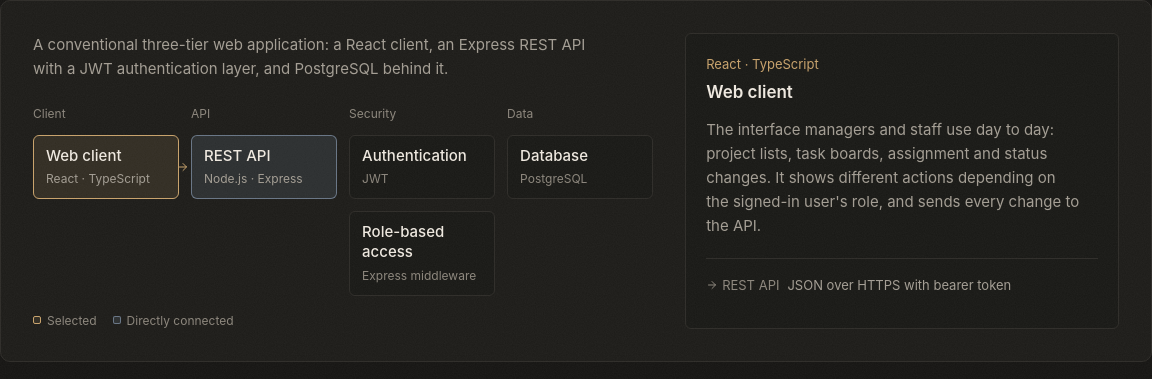
Test case: Architecture explorer › explains what a component does in this specific project
Click the button with aria-label "Database, PostgreSQL": (580, 167) [507, 135, 653, 199]
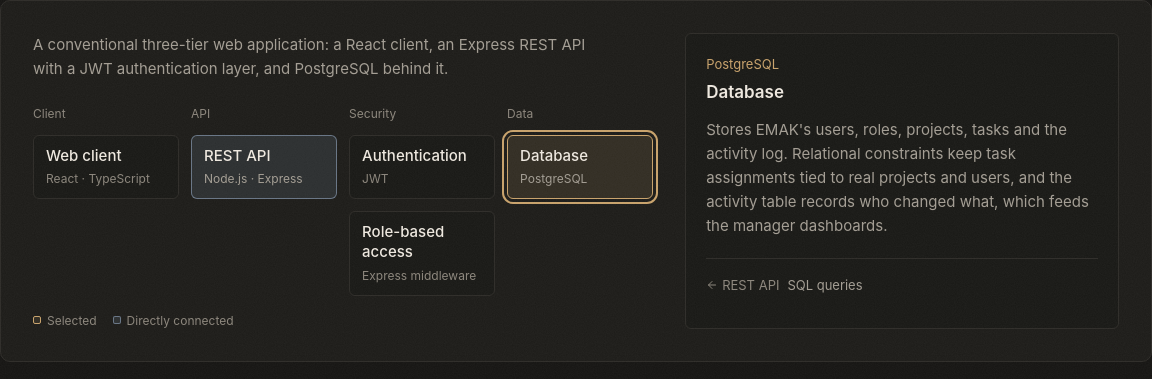
Now the text "Stores EMAK's users, roles, projects, tasks" is shown, box [706, 120, 1089, 235]
